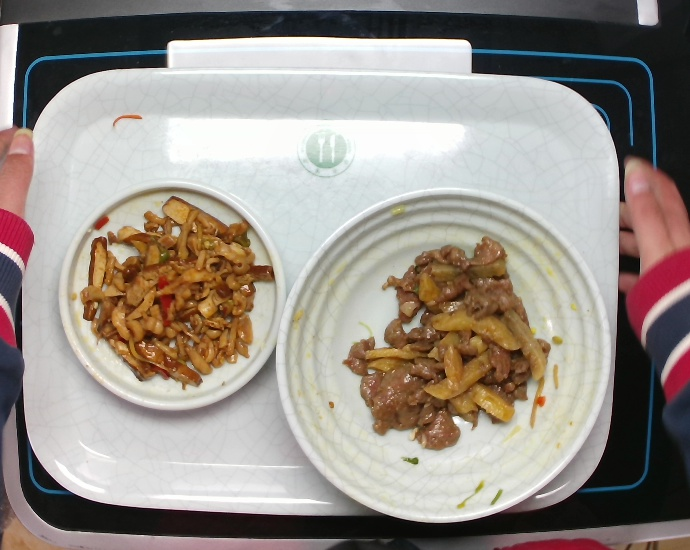JYsf-Da_Tang_Wan: (272, 182, 610, 526)
JYsf-Xiao_Yuan_Pan: (57, 175, 294, 415)
